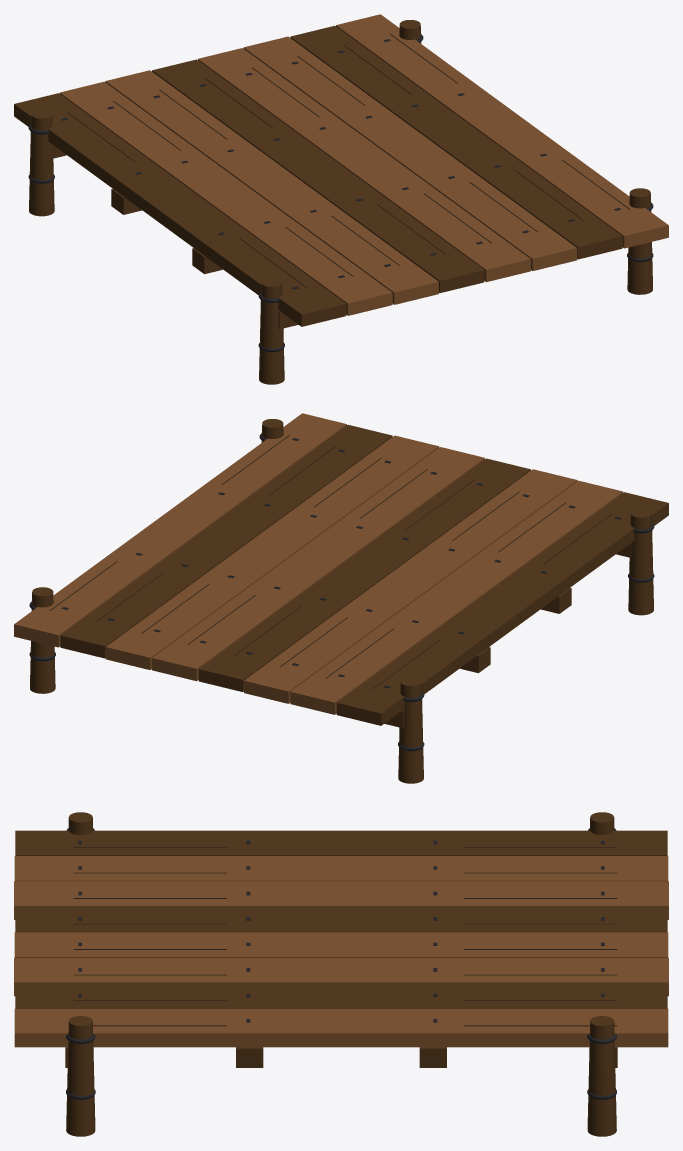
Rendered from mia-dock.glb.
The picture shows the model from 3 angles, top to bottom: view 1: azimuth 30°, elevation 25°; view 2: azimuth 150°, elevation 25°; view 3: azimuth 270°, elevation 25°; orthographic projection. The views are drawn at different scales.
Visible parts, largest first — view 1: Body_oak, Body_wood, Body_grain, Body_iron; view 2: Body_oak, Body_wood, Body_grain, Body_iron; view 3: Body_oak, Body_wood, Body_grain, Body_iron.
Part boxes in pixels (bbox=[...]): Body_oak: bbox=[59, 14, 668, 315]; Body_wood: bbox=[14, 20, 652, 384]; Body_grain: bbox=[67, 33, 629, 288]; Body_iron: bbox=[28, 34, 653, 351]; Body_oak: bbox=[14, 413, 623, 714]; Body_wood: bbox=[30, 419, 668, 783]; Body_grain: bbox=[49, 435, 611, 689]; Body_iron: bbox=[29, 433, 654, 750]; Body_oak: bbox=[14, 856, 668, 1047]; Body_wood: bbox=[15, 812, 667, 1136]; Body_grain: bbox=[73, 847, 617, 1026]; Body_iron: bbox=[66, 828, 616, 1099].
Bounding box in the file's own units: 3.91 × 0.923 × 5.
